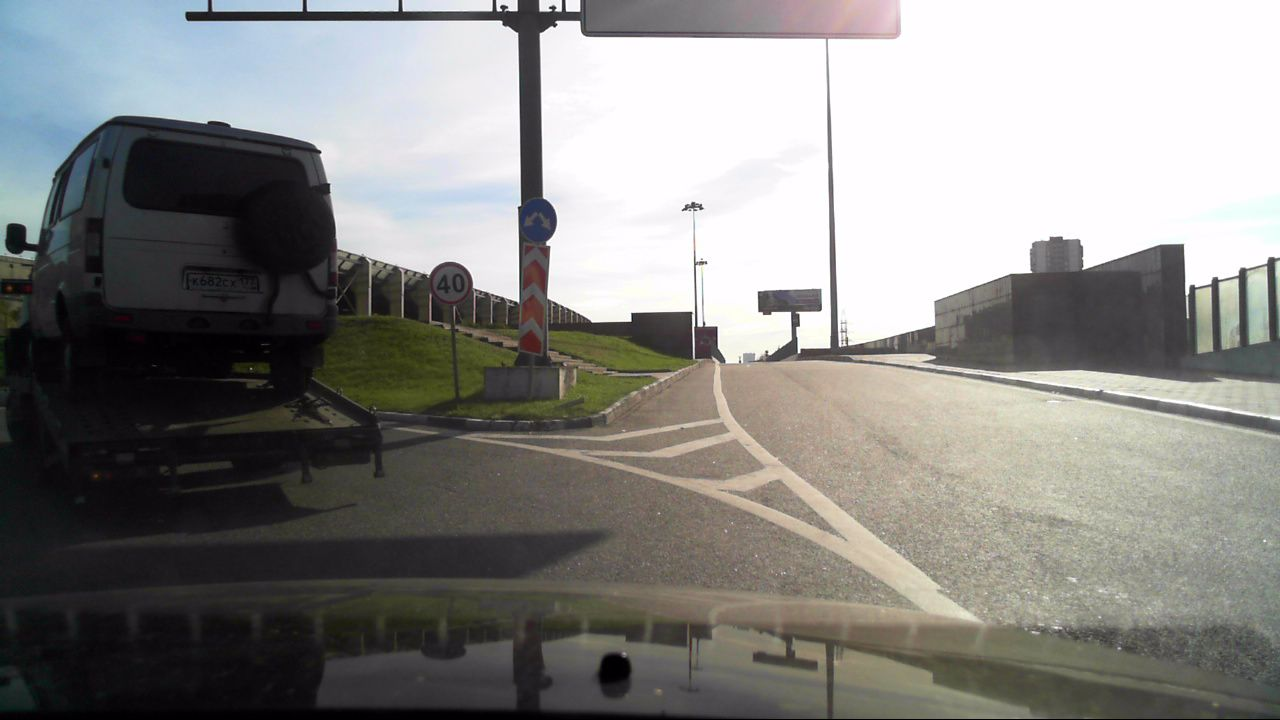speed_warning_40: (427, 259, 475, 307)
